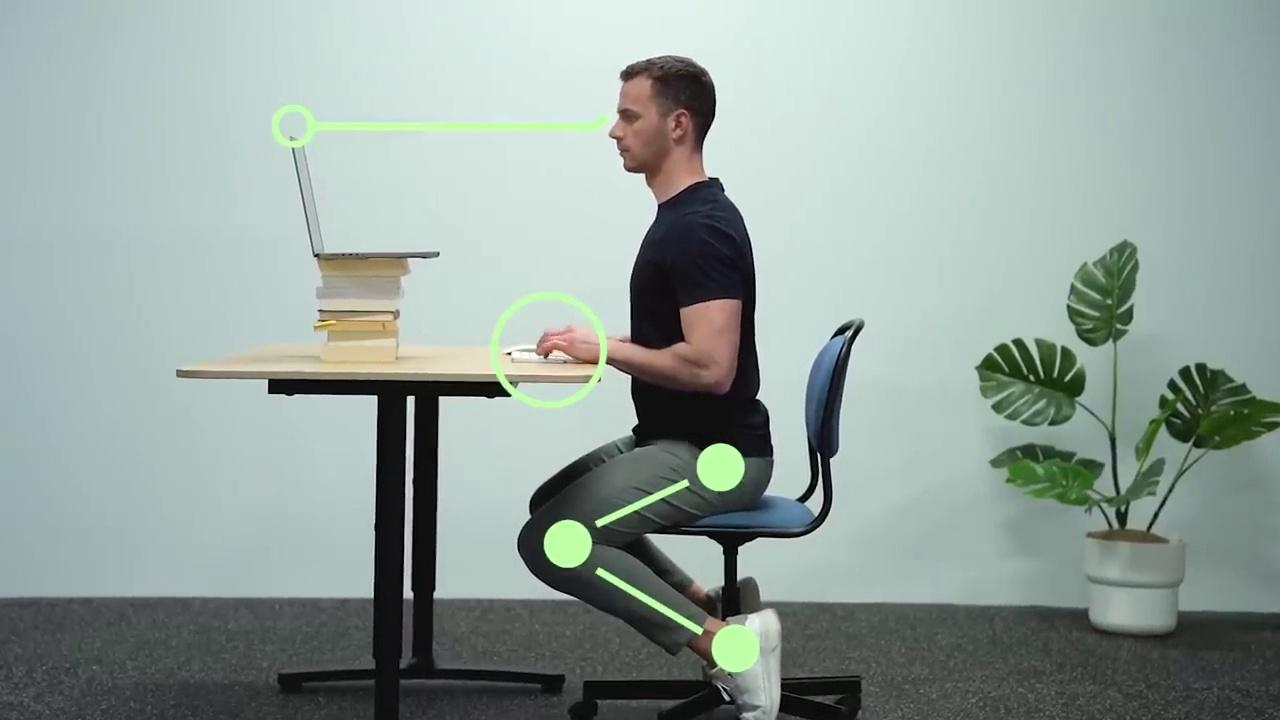GoodPosture: (518, 55, 758, 661)
